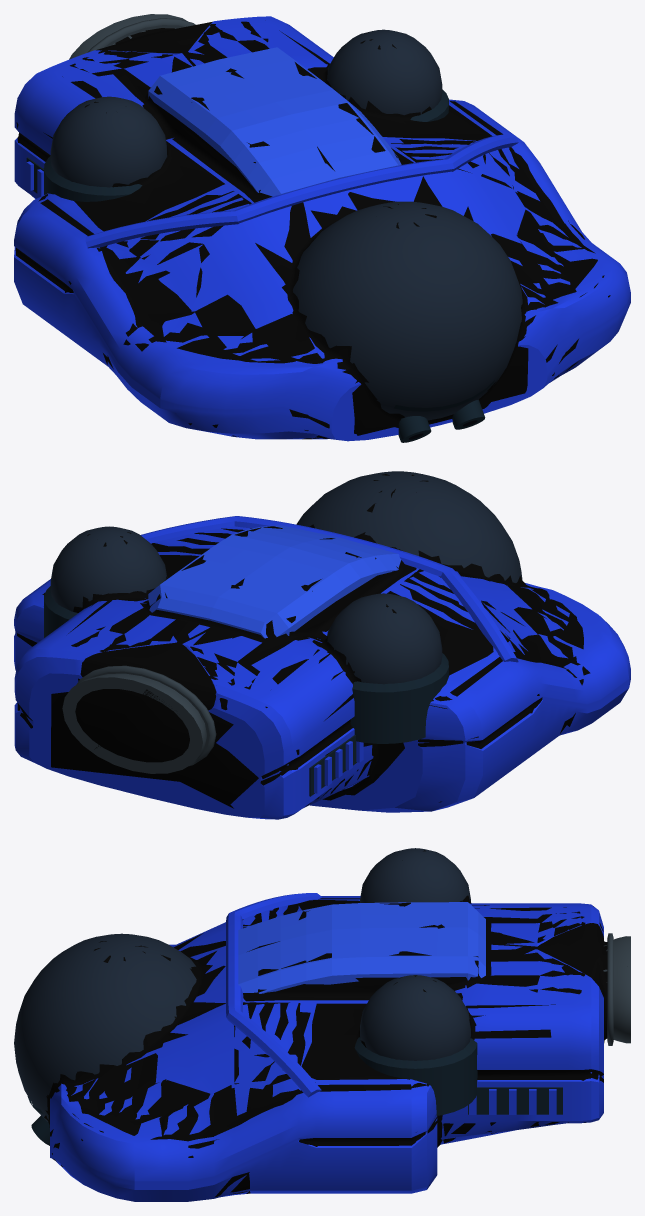
The model's file is newsh9-43.glb.
3 renders of one model, top to bottom at view 1: azimuth 30°, elevation 25°; view 2: azimuth 150°, elevation 25°; view 3: azimuth 270°, elevation 25°, orthographic. The views are drawn at different scales.
Visible parts, largest first — view 1: newsh9-43, newsh9-43_outline; view 2: newsh9-43, newsh9-43_outline; view 3: newsh9-43, newsh9-43_outline.
Boxes of the visible parts, x1=… form: newsh9-43: x1=14, y1=14, x2=630, y2=442; newsh9-43_outline: x1=15, y1=21, x2=610, y2=439; newsh9-43: x1=14, y1=471, x2=630, y2=819; newsh9-43_outline: x1=17, y1=474, x2=590, y2=817; newsh9-43: x1=14, y1=848, x2=630, y2=1201; newsh9-43_outline: x1=44, y1=850, x2=607, y2=1196.
Bounding box in the file's own units: 1.67 × 0.8042 × 2.
